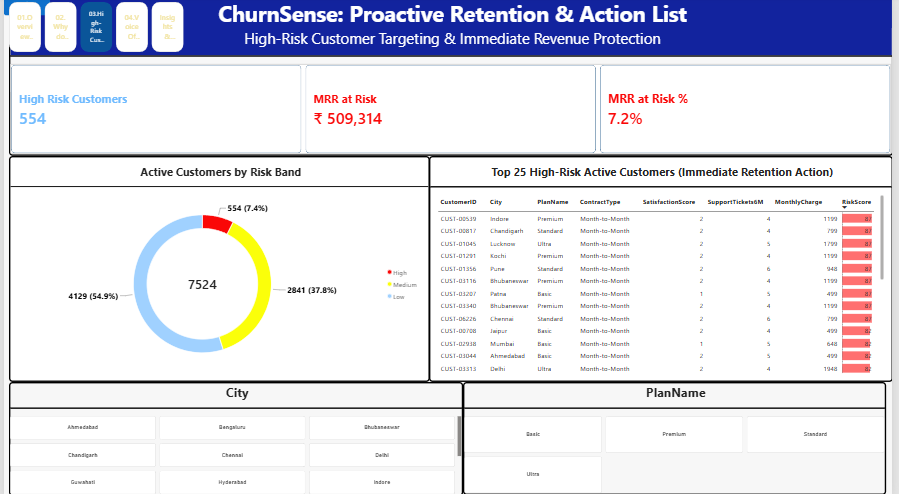

The dashboard page shown, as its layout file describes it:
{"tool":"powerbi","page":{"name":"03.High-Risk Customer","canvas":[1920,1080],"ordinal":2},"visuals":[{"type":"cardVisual","title":"ChurnSense: Proactive Retention & Action List","fields":{"Data":["_Measure.High Risk Customers","_Measure.MRR at Risk","_Measure.MRR at Risk %"]},"box":[10.1,0,1909.9,342.7],"z":0},{"type":"donutChart","title":"Active Customers by Risk Band","fields":{"Category":["Customers.RiskBand"],"Y":["_Measure.Active Customers"]},"box":[10.8,343.4,909.4,488.2],"z":1000},{"type":"tableEx","title":"Top 25 High-Risk Active Customers (Immediate Retention Action)","fields":{"Values":["Customers.CustomerID","Customers.City","Customers.PlanName","Customers.ContractType","Customers.SatisfactionScore","Customers.SupportTickets6M","Customers.MonthlyCharge","Customers.RiskScore"]},"box":[918,343.4,1002.2,488.2],"z":3000},{"type":"actionButton","box":[0,0,100,40],"z":4000},{"type":"advancedSlicerVisual","fields":{"Values":["Customers.City"]},"box":[10.8,831.6,980.6,246.2],"z":5000},{"type":"advancedSlicerVisual","fields":{"Values":["Customers.PlanName"]},"box":[991.4,831.6,913.7,244.1],"z":6000},{"type":"pageNavigator","box":[10.1,10.1,378,108.3],"z":6001}]}

Visuals, with their boxes in screenshot pixels (x1, y1, x2, y2), scaled from the page's 1920x1080 canvas onto the 899x494 screenshot:
"ChurnSense: Proactive Retention & Action List" cardVisual: x1=5 y1=0 x2=898 y2=157
"Active Customers by Risk Band" donutChart: x1=5 y1=157 x2=431 y2=380
"Top 25 High-Risk Active Customers (Immediate Retention Action)" tableEx: x1=430 y1=157 x2=898 y2=380
actionButton: x1=0 y1=0 x2=47 y2=18
advancedSlicerVisual - Customers.City: x1=5 y1=380 x2=464 y2=493
advancedSlicerVisual - Customers.PlanName: x1=464 y1=380 x2=892 y2=492
pageNavigator: x1=5 y1=5 x2=182 y2=54
